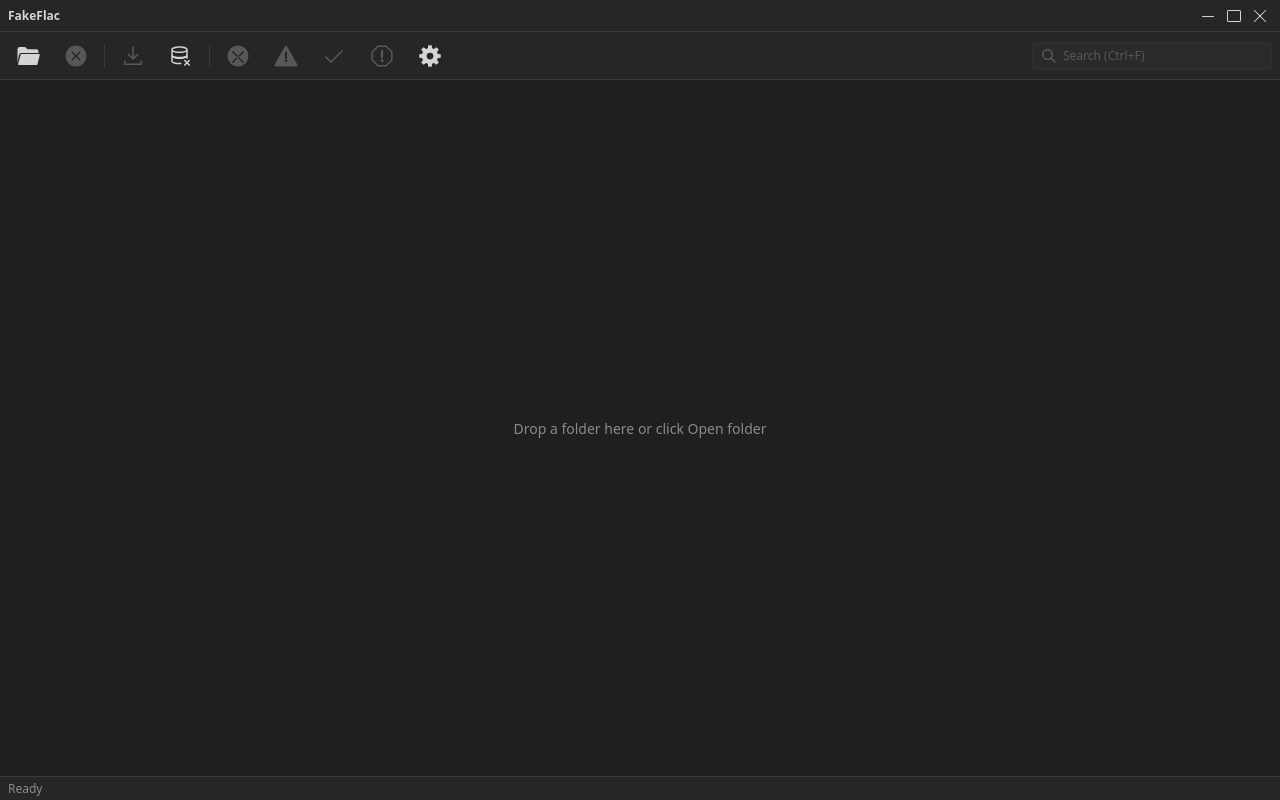
Test: Scenario Outline: Existing mounted states translate after a successful Save (@RF-13) › ready: English -> Spanish -> English, with the run, rows, counts and phase preserved
Expected: the element named "Main toolbar" is shown, [0,32,1279,80]
Click the button named "Settings". click: click(430, 56)
box: [410,36,450,76]
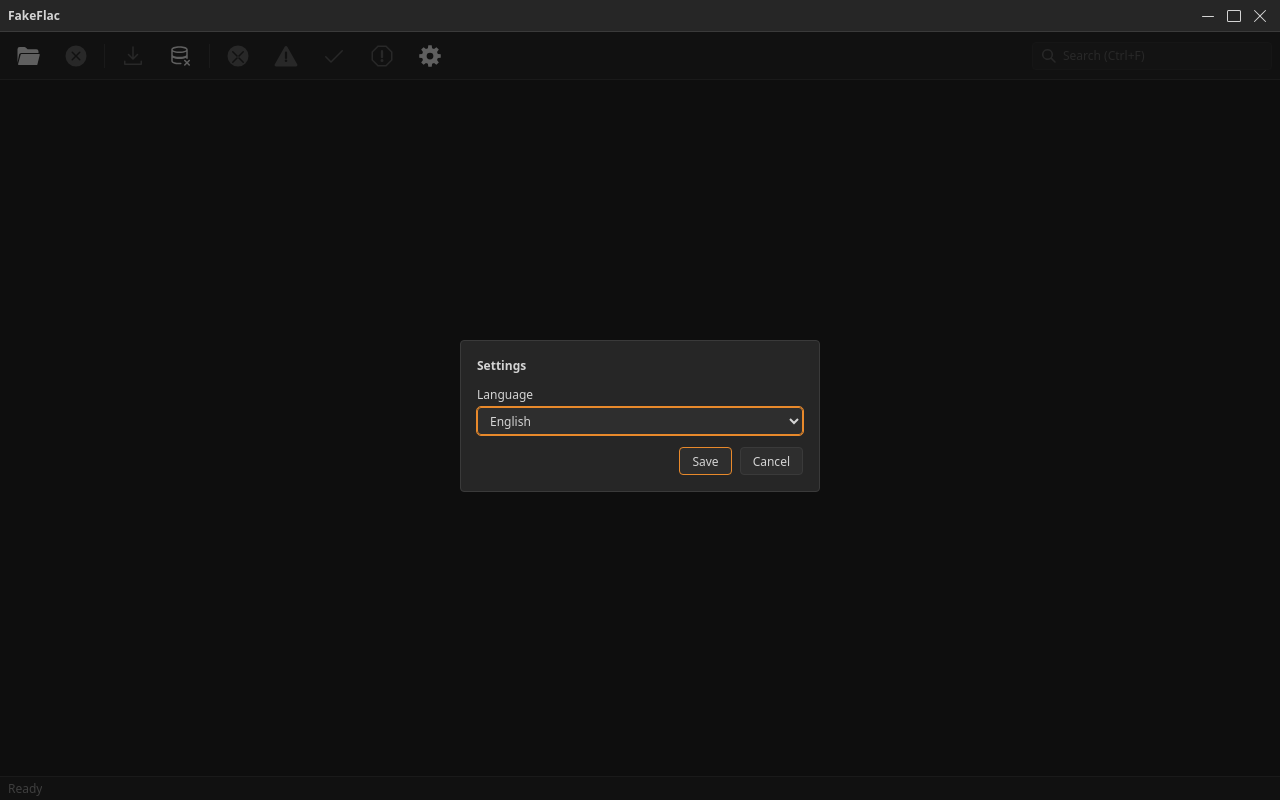
Result: the dialog is shown at [460,340,820,492]
Select "Español" in the dropdown. click: (640, 421)
box: [477,407,803,435]
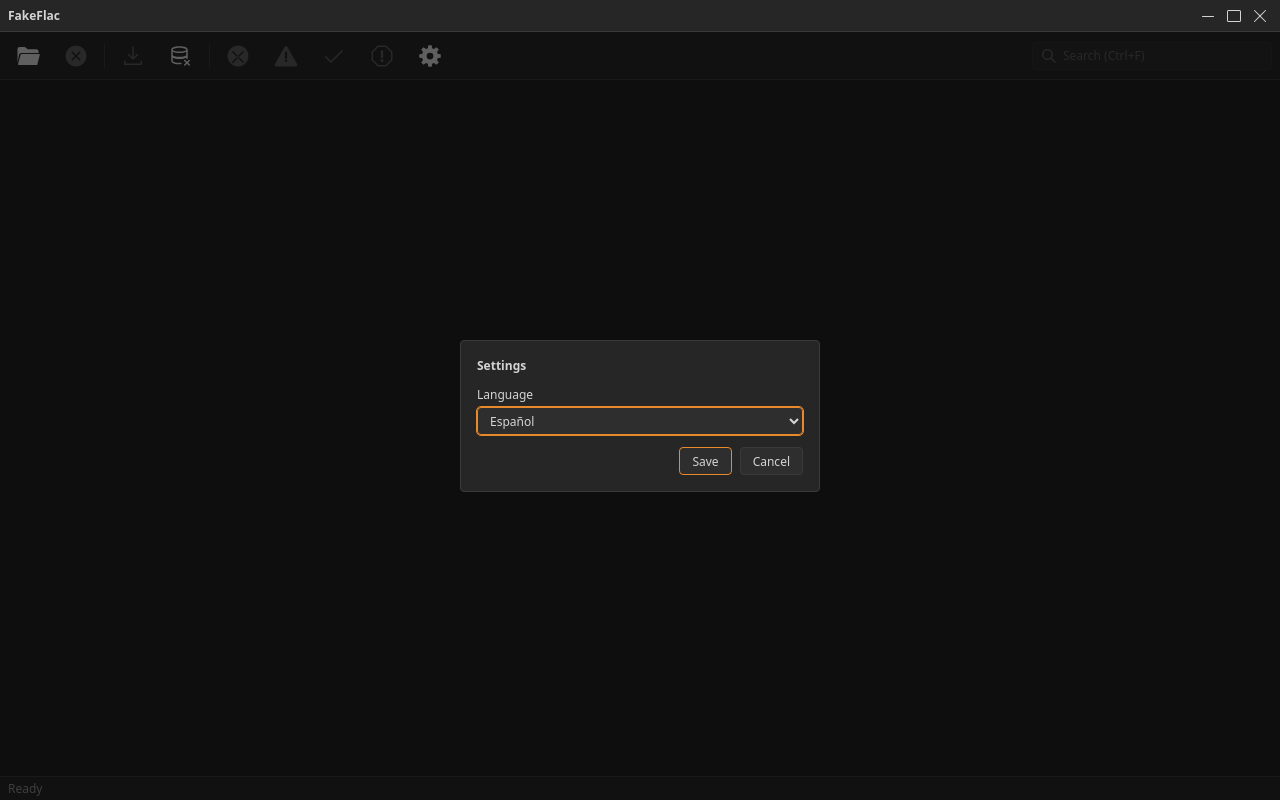
Click the button "Save". click: click(706, 461)
box: [680,447,732,475]
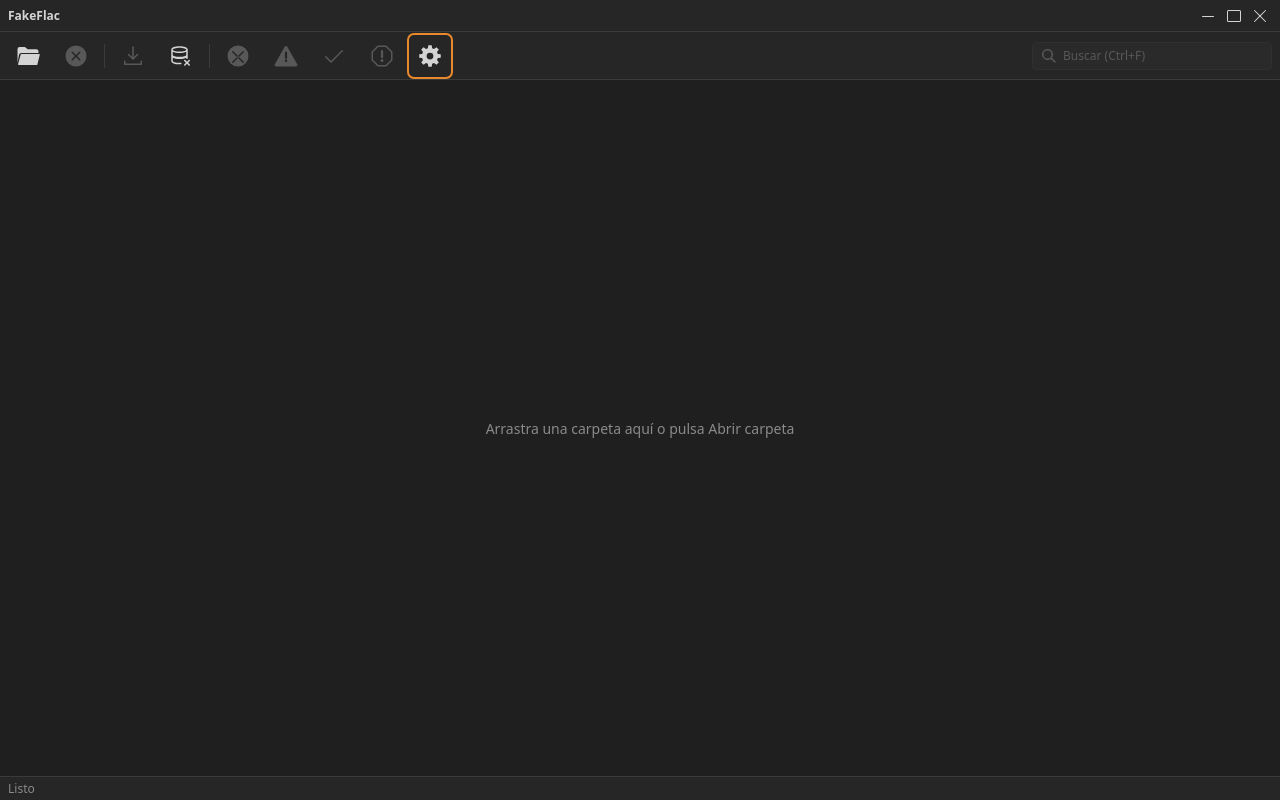
Result: the dialog is gone
Result: the text "Listo" is shown at [8,780,35,797]
Result: the element named "Barra de herramientas principal" is shown at [0,32,1279,80]
Click the button named "Ajustes". click: click(430, 56)
box: [410,36,450,76]
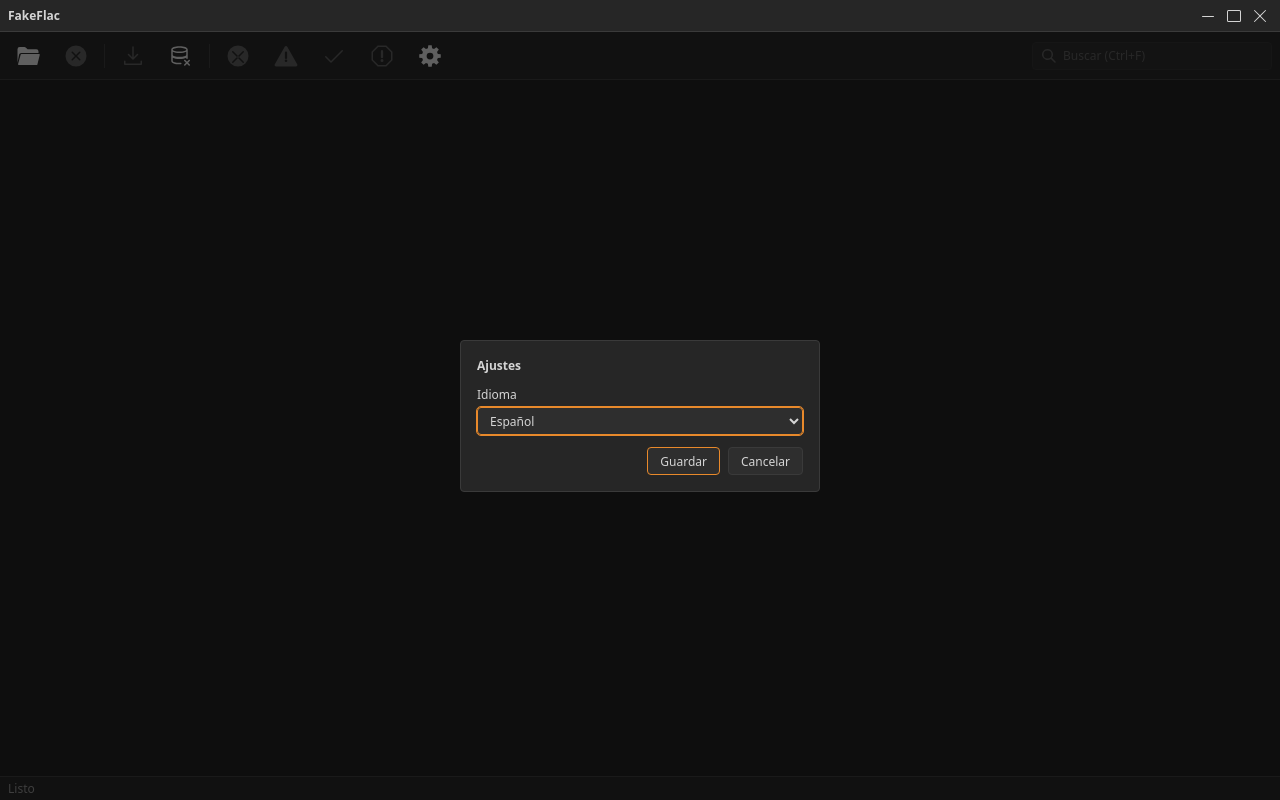
Result: the dialog is shown at [460,340,820,492]
Select "English" in the dropdown. click: (640, 421)
box: [477,407,803,435]
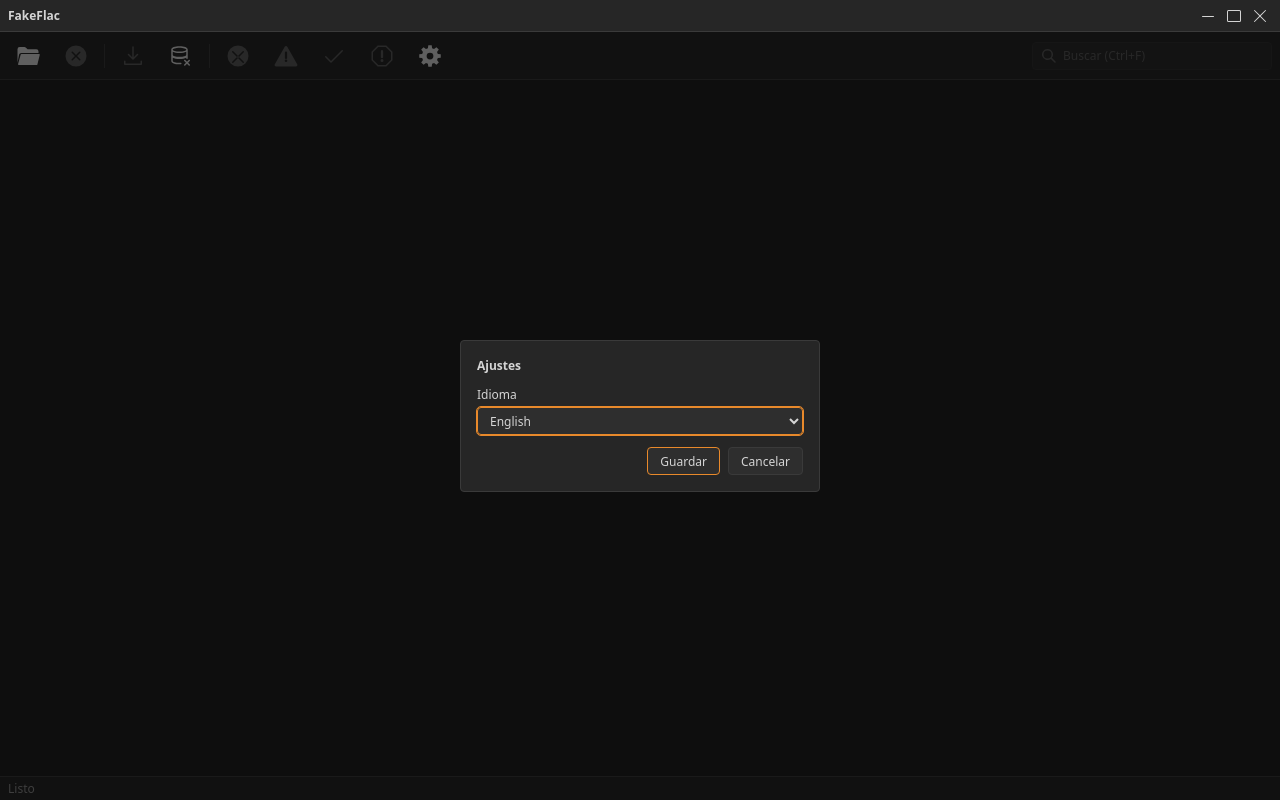
Click the button "Guardar". click: click(684, 461)
box: [647,447,720,475]
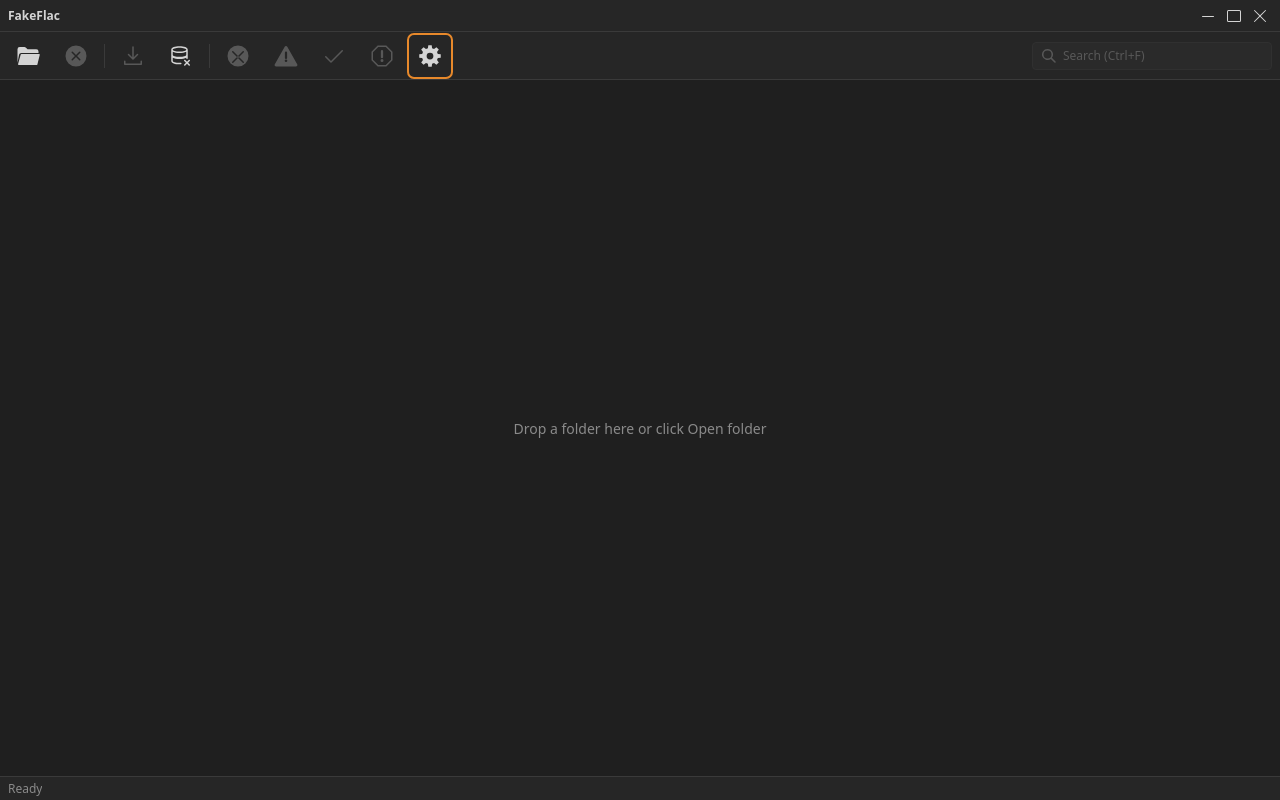
Result: the dialog is gone
Result: the text "Ready" is shown at [8,780,42,797]
Result: the button named "Open folder" is shown at [8,36,48,76]
